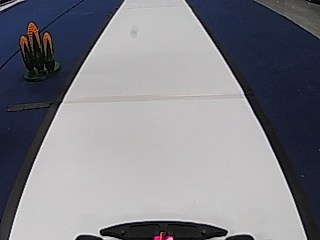corn: (17, 20, 60, 81)
